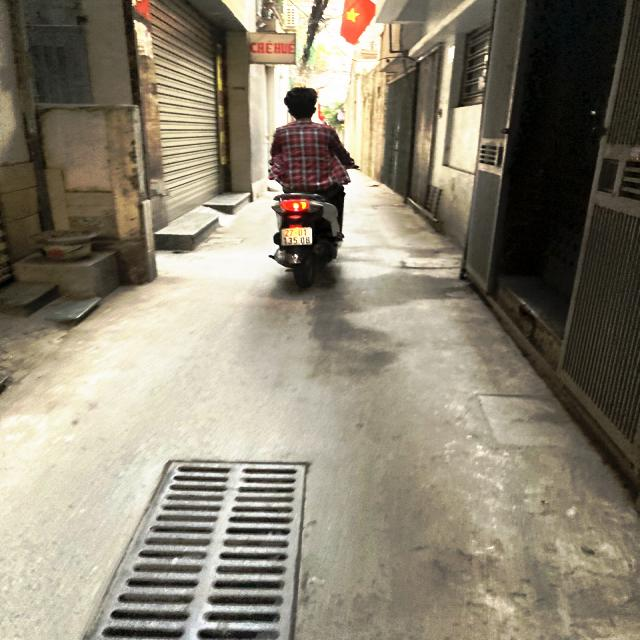license_plate: (279, 227, 315, 245)
